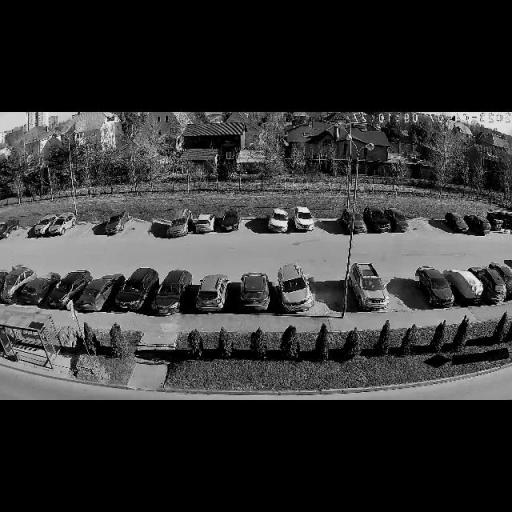busy: (271, 261, 318, 313), (111, 269, 158, 315), (349, 262, 393, 310), (146, 272, 190, 315), (414, 268, 460, 308), (6, 268, 50, 306), (234, 272, 275, 312), (72, 277, 117, 312), (46, 272, 84, 310), (478, 262, 512, 303), (190, 277, 229, 312), (450, 271, 489, 305), (27, 212, 75, 239), (0, 266, 31, 306), (20, 275, 57, 306), (96, 212, 134, 238), (364, 207, 398, 233), (164, 210, 193, 238), (341, 207, 368, 233), (265, 209, 293, 234), (289, 206, 316, 230), (443, 214, 474, 234), (217, 211, 242, 234), (464, 214, 488, 234), (192, 216, 216, 234), (0, 220, 16, 239)
free: (315, 275, 351, 314), (389, 274, 419, 314), (150, 211, 172, 237), (128, 216, 152, 238), (90, 214, 108, 240), (429, 214, 448, 237), (246, 214, 264, 237), (72, 217, 92, 237), (406, 217, 426, 236), (10, 220, 27, 239), (22, 218, 36, 240), (316, 221, 338, 232)
